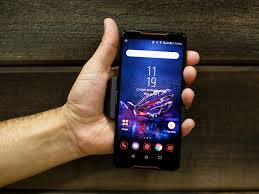asus: (112, 25, 184, 173)
